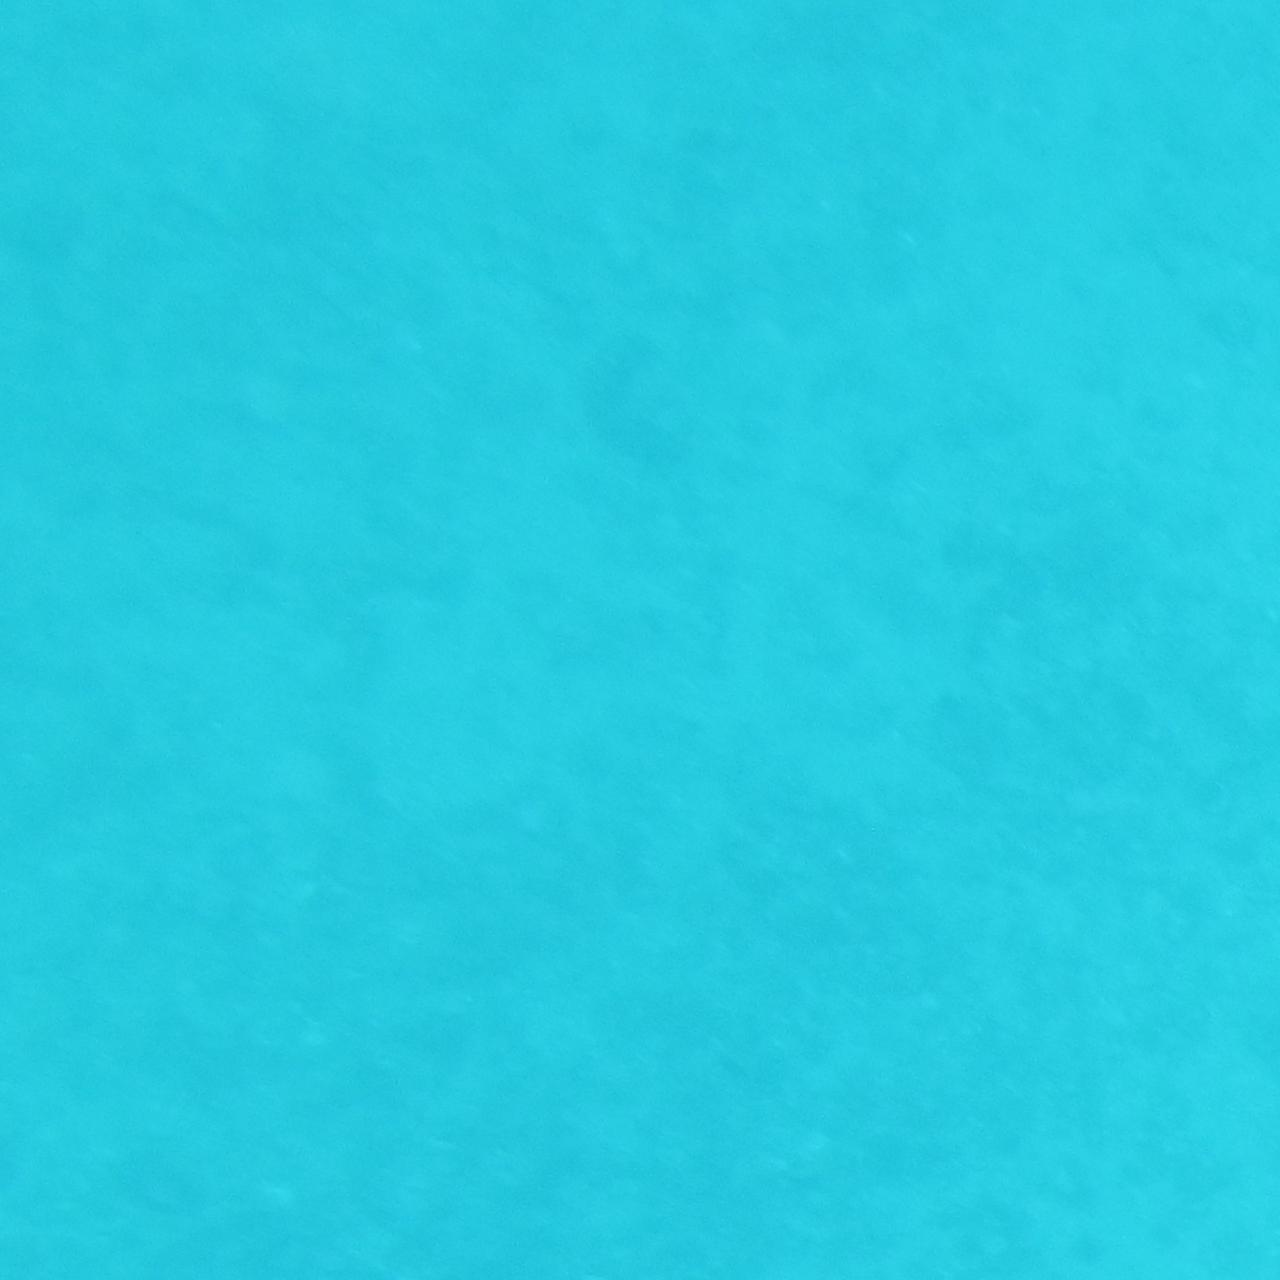Holothuria tubulosa: (586, 341, 694, 469)
